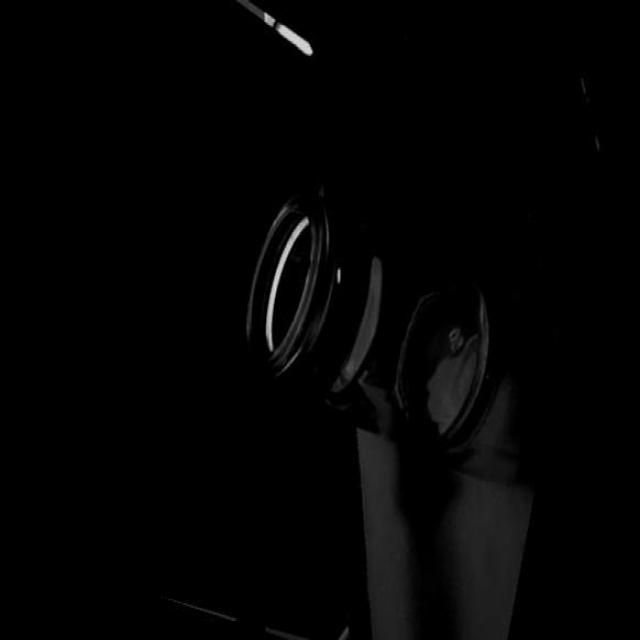defect: (334, 264, 344, 284)
glass: (227, 172, 510, 469)
